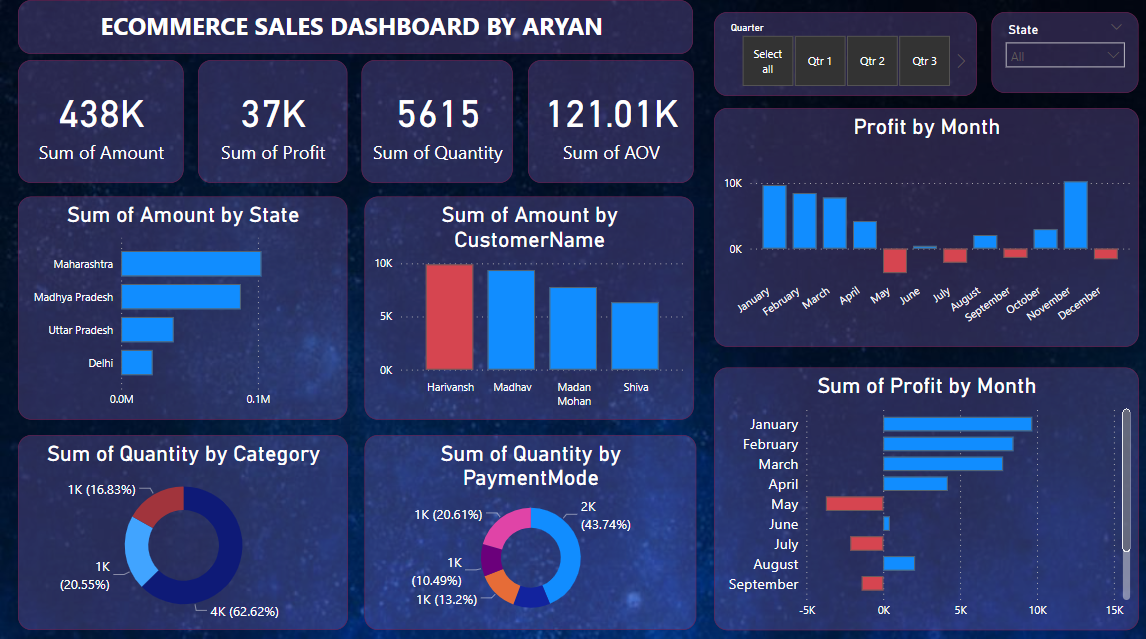

The dashboard page shown, as its layout file describes it:
{"tool":"powerbi","page":{"name":"Page 1","canvas":[1280,720],"ordinal":0},"visuals":[{"type":"textbox","box":[20,0,750,60],"z":0},{"type":"columnChart","title":"Profit by Month","fields":{"Category":["Orders.Order Date.Variation.Date Hierarchy.Month"],"Y":["Details.Profit"]},"box":[793.3,120,471.7,265],"z":1000},{"type":"barChart","fields":{"Category":["Orders.Order Date.Variation.Date Hierarchy.Month"],"Y":["Details.Profit"]},"box":[793.3,408.3,471.7,291.7],"z":2000},{"type":"donutChart","fields":{"Y":["Details.Quantity"],"Series":["Details.PaymentMode"]},"box":[405,483.3,368.3,216.7],"z":3000},{"type":"donutChart","fields":{"Category":["Details.Category"],"Y":["Details.Quantity"]},"box":[20,483.3,366.7,216.7],"z":4000},{"type":"card","fields":{"Values":["Details.Profit"]},"box":[220.5,65.9,165.9,136.4],"z":5000},{"type":"card","fields":{"Values":["Details.Amount"]},"box":[20.5,65.9,184.1,136.4],"z":6000},{"type":"card","fields":{"Values":["Details.Quantity"]},"box":[402.3,65.9,168.2,136.4],"z":7000},{"type":"card","fields":{"Values":["Details.AOV"]},"box":[586.4,65.9,184.1,136.4],"z":8000},{"type":"clusteredBarChart","fields":{"Y":["Details.Amount"],"Category":["Orders.State"]},"box":[20.5,218.2,365.9,247.7],"z":9000},{"type":"columnChart","fields":{"Category":["Orders.CustomerName"],"Y":["Details.Amount"]},"box":[404.5,218.2,365.9,247.7],"z":10000},{"type":"slicer","fields":{"Values":["Orders.Order Date.Variation.Date Hierarchy.Quarter"]},"box":[793.3,13.3,291.7,93.3],"z":11000},{"type":"slicer","fields":{"Values":["Orders.State"]},"box":[1101.7,13.3,163.3,90],"z":12000}]}

Visuals, with their boxes in screenshot pixels (x1, y1, x2, y2), scaled from the page's 1280x720 canvas onto the 1146x639 screenshot:
textbox: [18,0,689,53]
"Profit by Month" columnChart: [710,106,1133,342]
barChart - Orders.Order Date.Variation.Date Hierarchy.Month x Details.Profit: [710,362,1133,621]
donutChart - Details.Quantity x Details.PaymentMode: [363,429,692,621]
donutChart - Details.Category x Details.Quantity: [18,429,346,621]
card - Details.Profit: [197,58,346,180]
card - Details.Amount: [18,58,183,180]
card - Details.Quantity: [360,58,511,180]
card - Details.AOV: [525,58,690,180]
clusteredBarChart - Details.Amount x Orders.State: [18,194,346,413]
columnChart - Orders.CustomerName x Details.Amount: [362,194,690,413]
slicer - Orders.Order Date.Variation.Date Hierarchy.Quarter: [710,12,971,95]
slicer - Orders.State: [986,12,1133,92]
